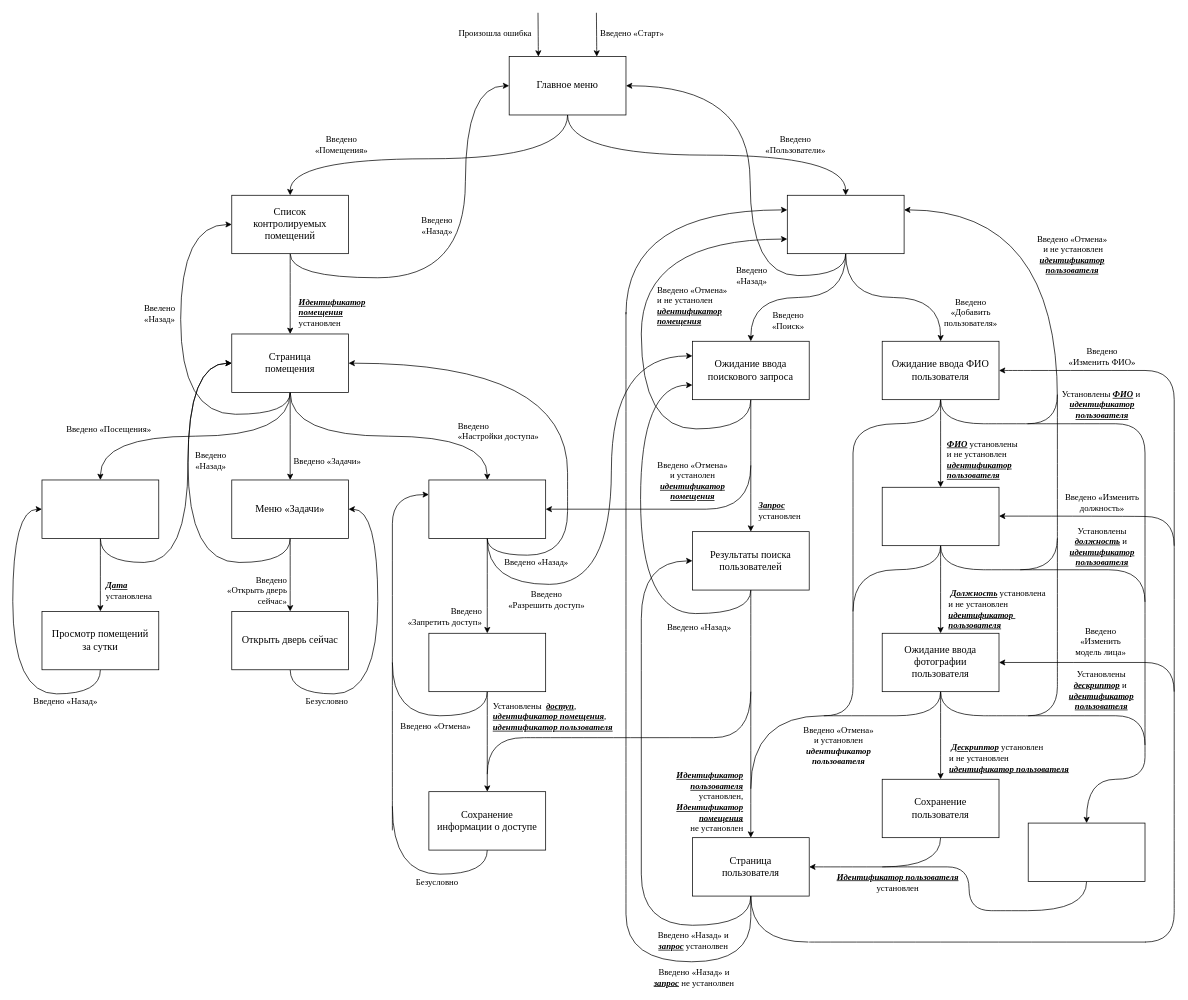
This 1188x1000 diagram has some shape labels left out. The shapes that lost their labels are listed below. From the top down, each one's centre as x and y in pixels, then its label:
At point (845, 224): "Меню «Пользователи»".
At point (100, 508): "Ожидание ввода даты".
At point (487, 508): "Меню «Настройки доступа»".
At point (940, 516): "Ожидание ввода должности пользователя".
At point (487, 662): "Список пользователей, имеющих доступ".
At point (1086, 851): "Обновление пользователя".
